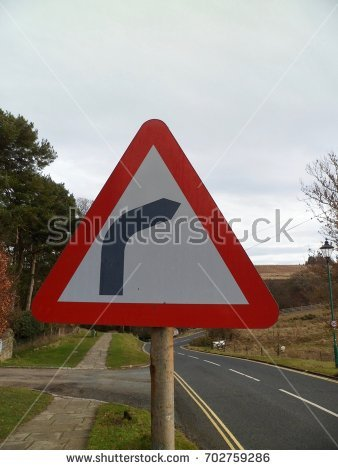Bend_to_right: (25, 117, 281, 332)
